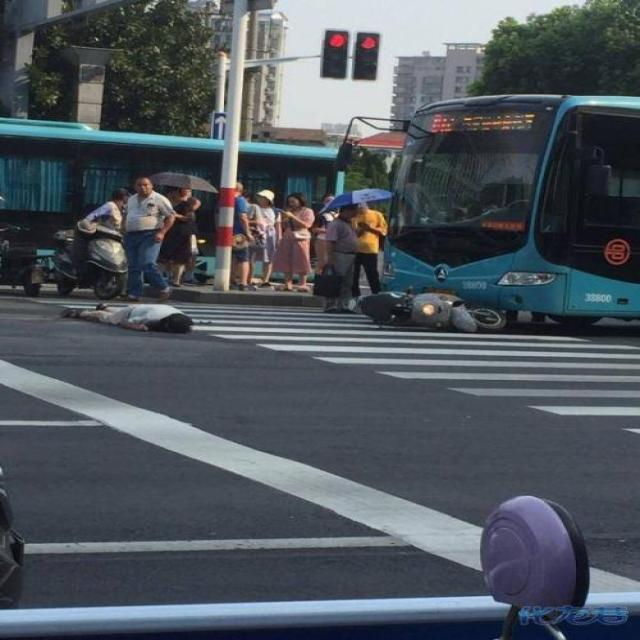10-: (50, 162, 440, 349)
down: (54, 292, 212, 348)
